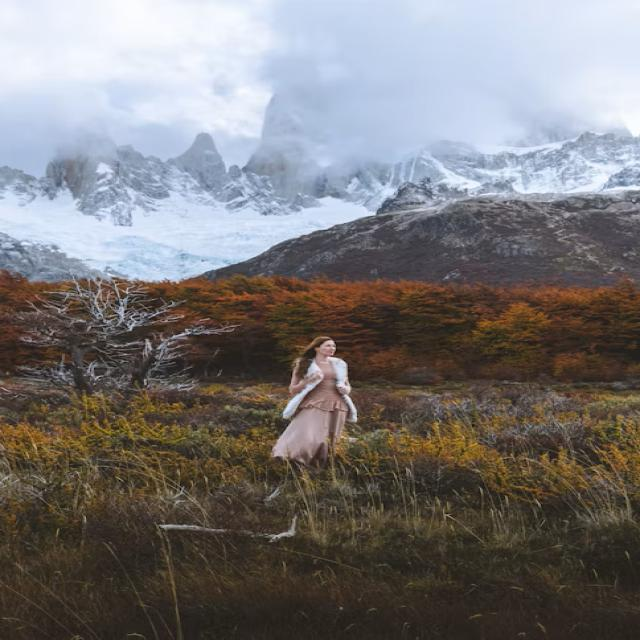Edited images: (226, 318, 400, 493)
